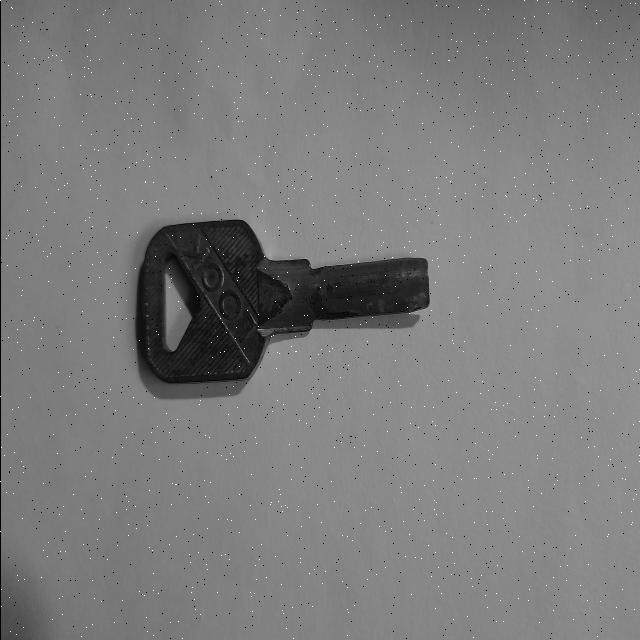key: (141, 220, 429, 383)
